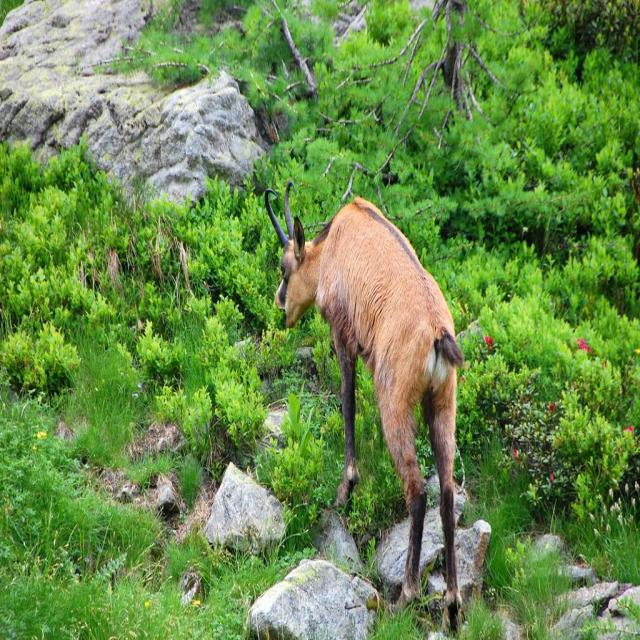Deer: (264, 180, 464, 639)
